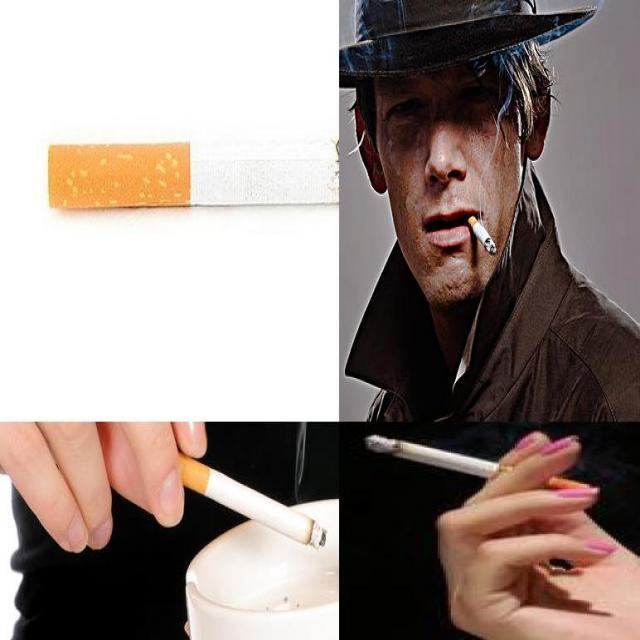smoke: (47, 123, 338, 210), (169, 436, 330, 560), (364, 435, 593, 498), (458, 202, 502, 262)
